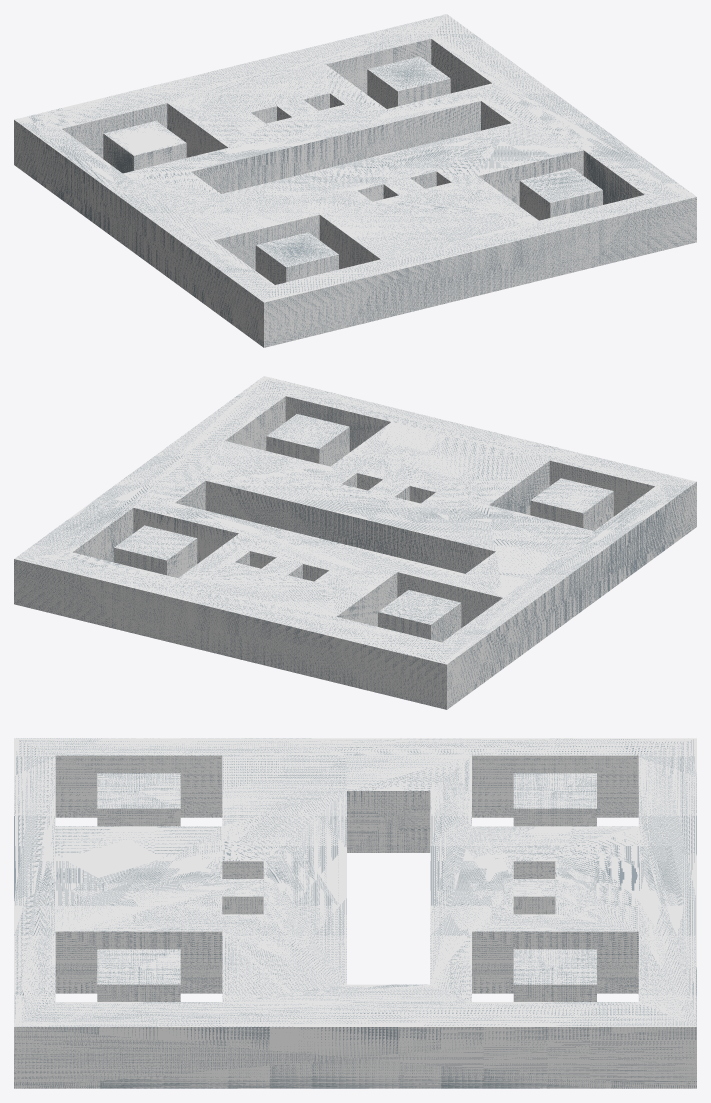
3 views of the same model, one above another, from view 1: azimuth 30°, elevation 25°; view 2: azimuth 150°, elevation 25°; view 3: azimuth 270°, elevation 25° (orthographic). The views are drawn at different scales.
Parts seen in each view (by area): view 1: Model; view 2: Model; view 3: Model.
Part boxes in pixels (x1,y1,x2,y2): Model: (14, 14, 696, 347); Model: (14, 376, 696, 709); Model: (14, 738, 696, 1088).
Size of the model in its own units: 5 by 0.5 by 5.
